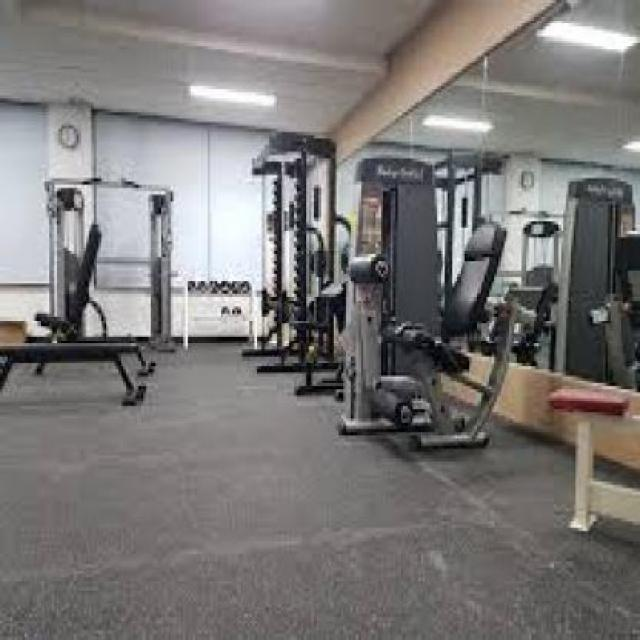leg extension: (314, 140, 543, 483)
